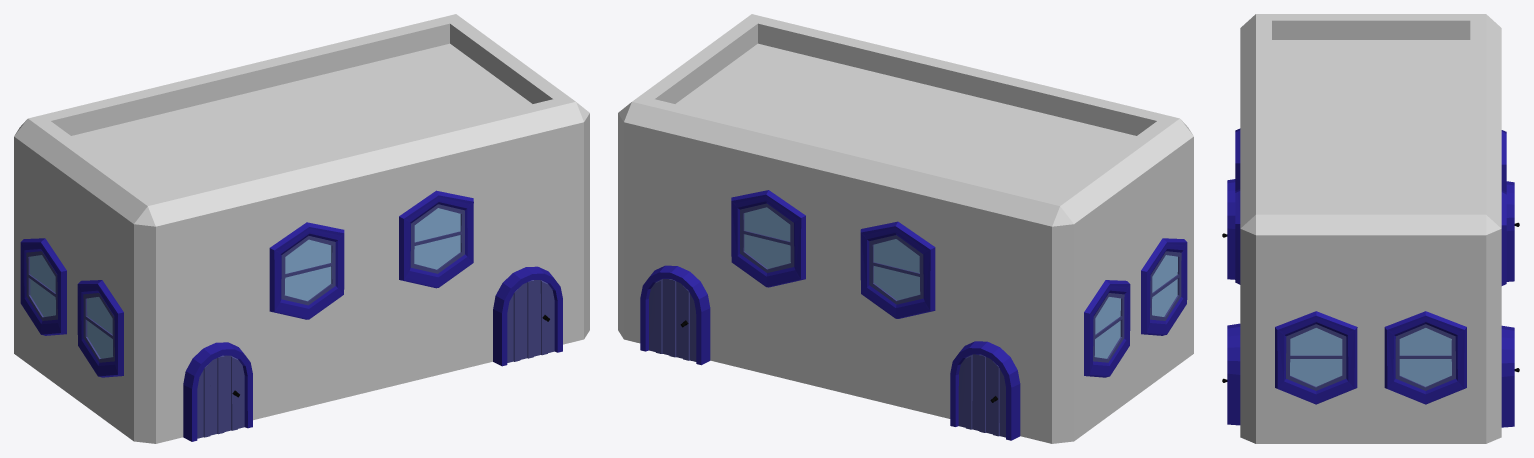
Rendered from HouseSeaDouble1.fbx.
3 renders of one model, left to right at view 1: azimuth 30°, elevation 25°; view 2: azimuth 150°, elevation 25°; view 3: azimuth 270°, elevation 25°, orthographic. The views are drawn at different scales.
Visible parts, largest first — view 1: Cube.006; view 2: Cube.006; view 3: Cube.006.
Boxes of the visible parts, <box> form: Cube.006: <box>14,14,589,443</box>; Cube.006: <box>618,14,1193,443</box>; Cube.006: <box>1222,14,1519,443</box>.
Size of the model in its own units: 649 by 309 by 374.
